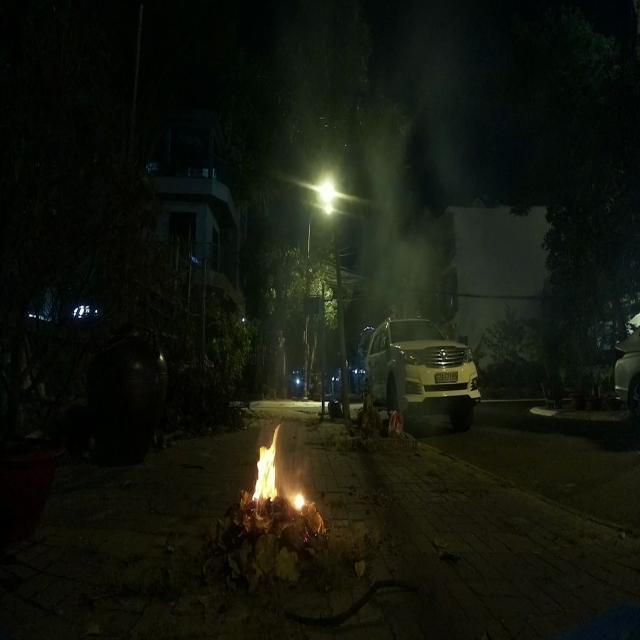Fire: (236, 418, 326, 533)
